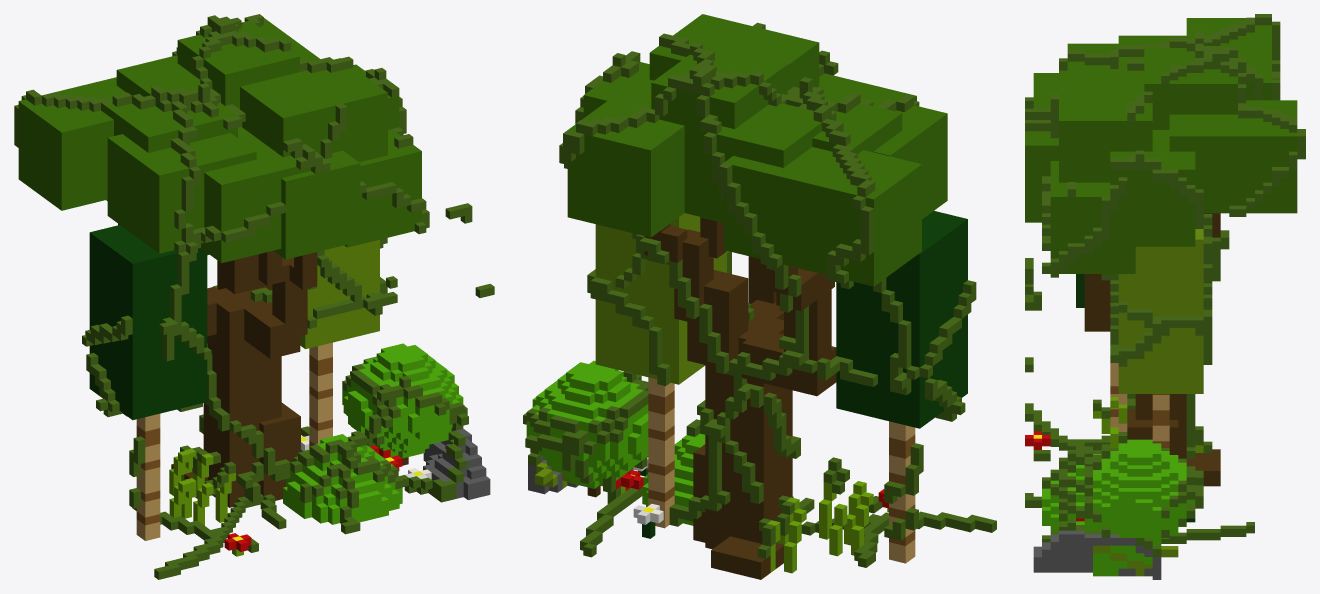
Rendered from Tiles 1 morceau 5.obj.
The picture shows the model from 3 angles, left to right: view 1: azimuth 30°, elevation 25°; view 2: azimuth 150°, elevation 25°; view 3: azimuth 270°, elevation 25°; orthographic projection. The views are drawn at different scales.
Parts seen in each view (by area): view 1: Tiles 1 morceau 5; view 2: Tiles 1 morceau 5; view 3: Tiles 1 morceau 5.
Boxes of the visible parts, bbox=[...] form: Tiles 1 morceau 5: bbox=[14, 14, 494, 579]; Tiles 1 morceau 5: bbox=[523, 14, 996, 579]; Tiles 1 morceau 5: bbox=[1025, 14, 1305, 579].
Size of the model in its own units: 49 by 57 by 33.
Materials: 1 (1 with a texture image).
